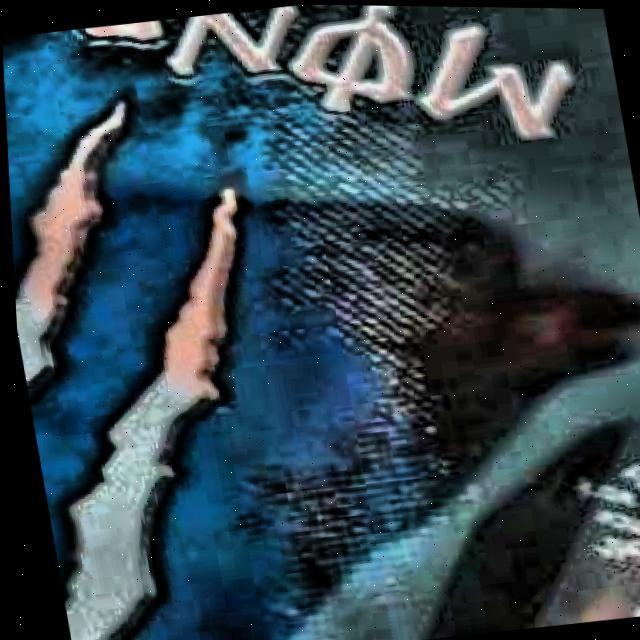metal: (2, 3, 640, 640)
